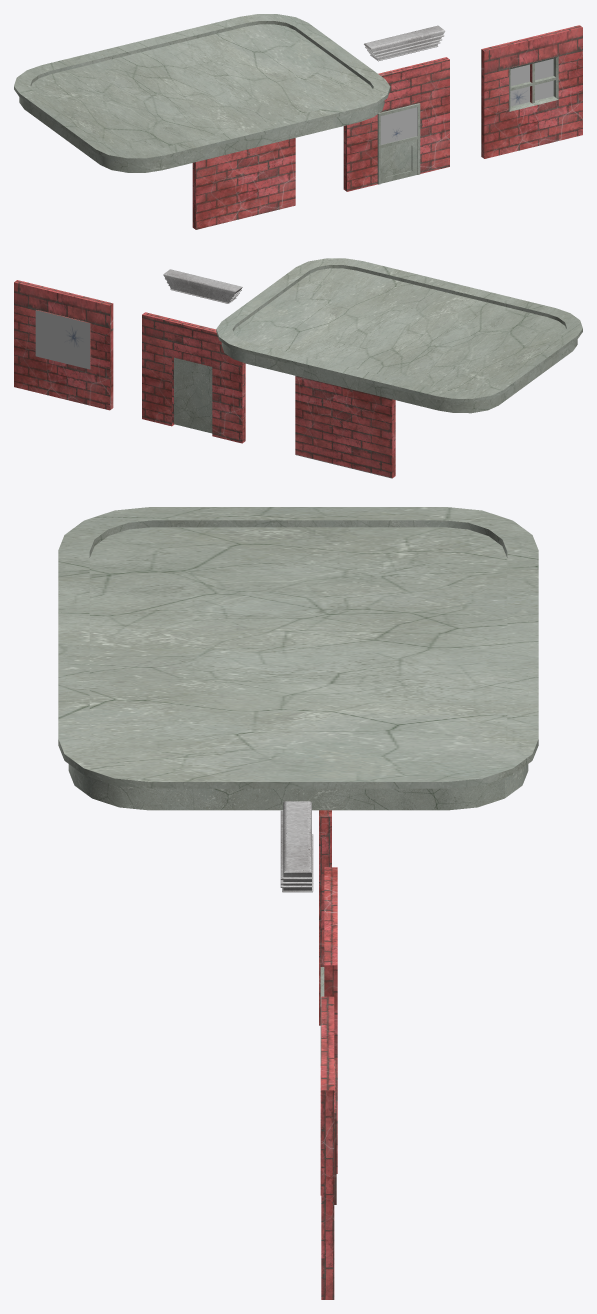
File: restaurant twoo.fbx
3 views of the same model, one above another, from view 1: azimuth 30°, elevation 25°; view 2: azimuth 150°, elevation 25°; view 3: azimuth 270°, elevation 25° (orthographic). The views are drawn at different scales.
Parts seen in each view (by area): view 1: polySurface7, pasted__Window_wall_a, pasted__Wall, polySurface4, polySurface19, pCube1, pasted__Window_a; view 2: polySurface7, pasted__Window_wall_a, pasted__Wall, polySurface4, pasted__Window_a, polySurface19, pCube1; view 3: polySurface7, pasted__Window_wall_a, pCube1, polySurface4, pasted__Wall.
Boxes of the visible parts, <box> form: polySurface7: <box>14,14,390,172</box>; pasted__Window_wall_a: <box>481,25,582,158</box>; pasted__Wall: <box>192,138,295,229</box>; polySurface4: <box>343,57,449,191</box>; polySurface19: <box>377,103,420,184</box>; pCube1: <box>364,25,445,61</box>; pasted__Window_a: <box>510,59,553,106</box>; polySurface7: <box>216,258,582,413</box>; pasted__Window_wall_a: <box>14,280,113,410</box>; pasted__Wall: <box>295,376,395,478</box>; polySurface4: <box>142,312,245,443</box>; pasted__Window_a: <box>35,310,90,369</box>; polySurface19: <box>174,357,212,433</box>; pCube1: <box>163,269,242,303</box>; polySurface7: <box>58,507,538,810</box>; pasted__Window_wall_a: <box>320,996,334,1299</box>; pCube1: <box>280,801,313,892</box>; polySurface4: <box>324,867,337,1173</box>; pasted__Wall: <box>319,810,331,1025</box>.
Size of the model in its own units: 20.86 by 5.56 by 8.38.
